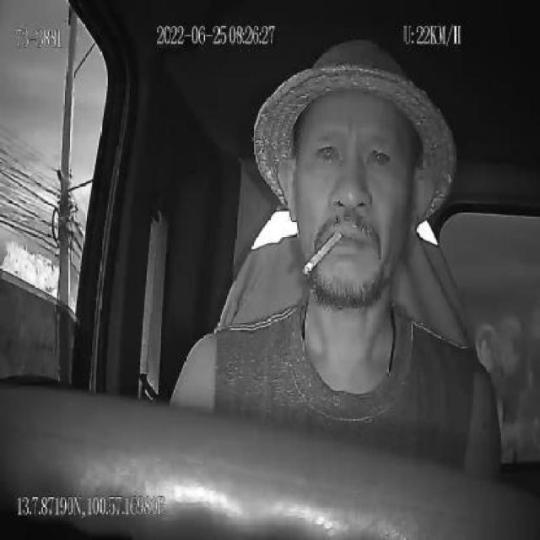smoking: (302, 230, 342, 278)
